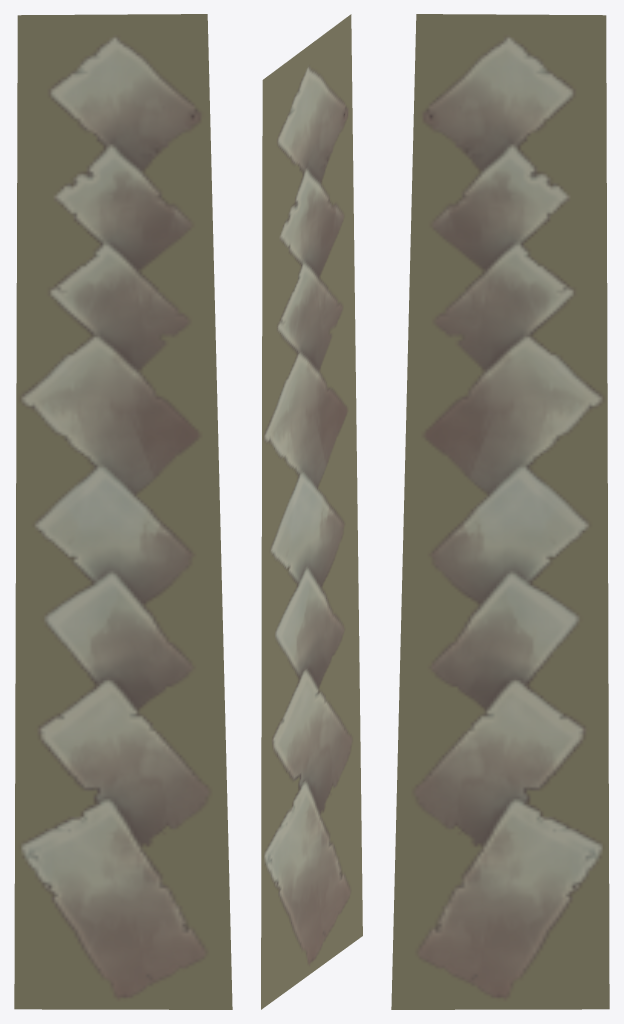
The model's file is SM_Torii_gate_ornament_shide_2.fbx.
3 renders of one model, left to right at view 1: azimuth 90°, elevation 25°; view 2: azimuth 150°, elevation 25°; view 3: azimuth 270°, elevation 25°, orthographic. The views are drawn at different scales.
Parts seen in each view (by area): view 1: SM_Torii_gate_ornament_shide_2_LOD0; view 2: SM_Torii_gate_ornament_shide_2_LOD0; view 3: SM_Torii_gate_ornament_shide_2_LOD0.
Boxes of the visible parts, x1=… form: SM_Torii_gate_ornament_shide_2_LOD0: x1=14, y1=14, x2=232, y2=1009; SM_Torii_gate_ornament_shide_2_LOD0: x1=261, y1=14, x2=362, y2=1009; SM_Torii_gate_ornament_shide_2_LOD0: x1=391, y1=14, x2=609, y2=1009.
Size of the model in its own units: 8.78e-06 by 13.04 by 65.71.
